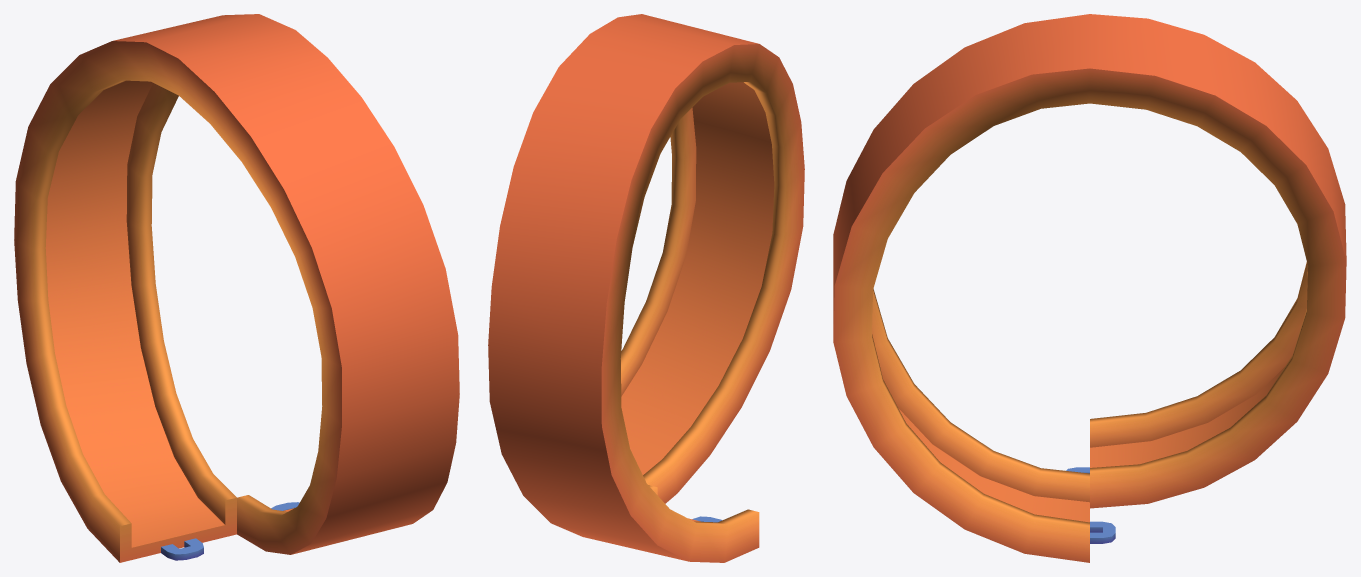
Rendered from track-narrow-looping.glb.
3 renders of one model, left to right at view 1: azimuth 30°, elevation 25°; view 2: azimuth 150°, elevation 25°; view 3: azimuth 270°, elevation 25°, orthographic. The views are drawn at different scales.
Parts seen in each view (by area): view 1: track-narrow-looping; view 2: track-narrow-looping; view 3: track-narrow-looping.
Boxes of the visible parts, bbox=[...] form: track-narrow-looping: bbox=[14, 14, 459, 562]; track-narrow-looping: bbox=[488, 14, 804, 562]; track-narrow-looping: bbox=[833, 14, 1346, 562].
Size of the model in its own units: 2 by 4 by 3.98.
Materials: 1 (1 with a texture image).
